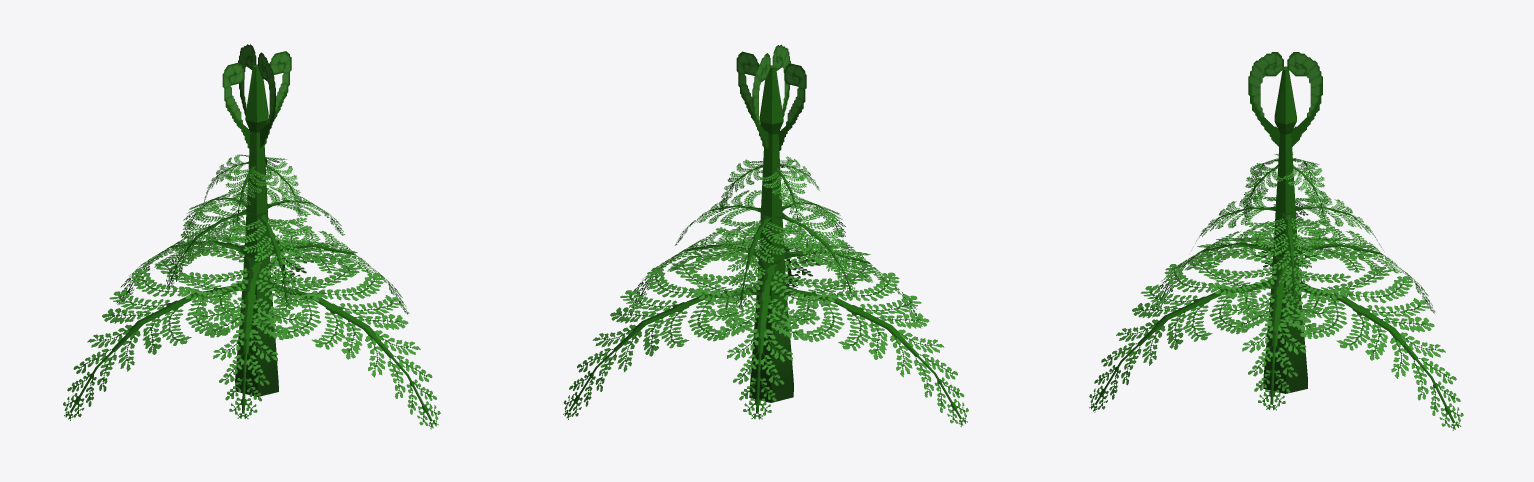
Rendered from fern.fbx.
3 views of the same model, side by side, from view 1: azimuth 30°, elevation 25°; view 2: azimuth 150°, elevation 25°; view 3: azimuth 270°, elevation 25° (orthographic). The views are drawn at different scales.
Visible parts, largest first — view 1: cylinder; view 2: cylinder; view 3: cylinder.
Part boxes in pixels (left/top/right/bottom): cylinder: left=63, top=44, right=440, bottom=429; cylinder: left=563, top=44, right=968, bottom=427; cylinder: left=1089, top=52, right=1463, bottom=430.
Size of the model in its own units: 96.88 by 85.62 by 106.
Materials: 1 (1 with a texture image).
